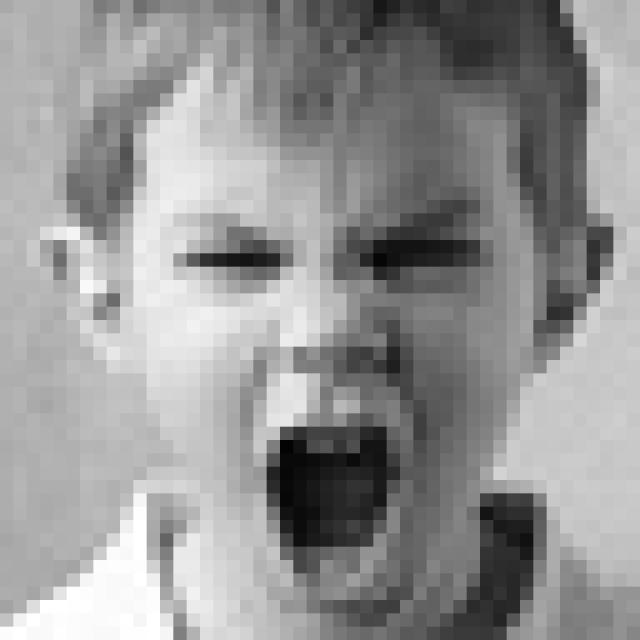angry: (164, 190, 503, 613)
